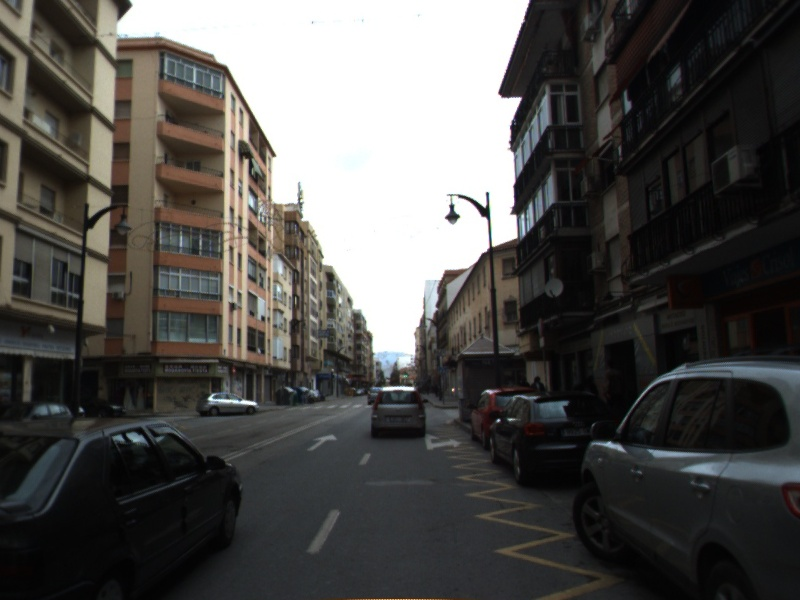STRAIGHT: (303, 432, 340, 453)
STRAIGHT_RIGHT: (421, 432, 464, 451)
